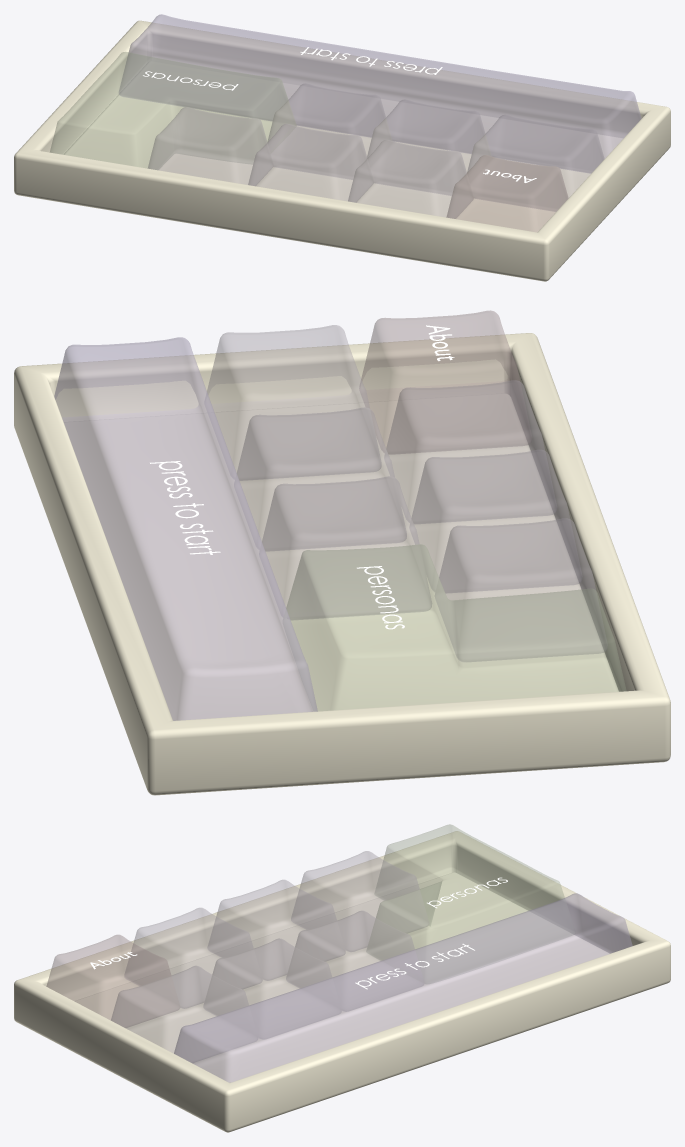
The model's file is noalphakeeb.glb.
3 views of the same model, one above another, from view 1: azimuth 30°, elevation 25°; view 2: azimuth 150°, elevation 25°; view 3: azimuth 270°, elevation 25° (orthographic). The views are drawn at different scales.
Visible parts, largest first — view 1: Board, Spacebar, Key5, Key6, Key8, Key7, Key4, Key2, Key3, Key1, Start; view 2: Board, Spacebar, Key5, Key6, Key4, Key7, Key2, Key3, Key1, Key8, Start; view 3: Board, Spacebar, Key5, Key6, Key7, Key3, Key4, Key8, Key2, Key1.
Part boxes in pixels (x1,y1,x2,y2): Board: (14,20,670,281); Spacebar: (119,14,641,173); Key5: (50,52,296,169); Key6: (467,115,604,211); Key8: (267,83,391,179); Key7: (367,99,490,195); Key4: (148,107,273,185); Key2: (348,140,473,218); Key3: (248,124,373,202); Key1: (446,155,568,231); Start: (300,47,442,74); Board: (14,333,670,795); Spacebar: (54,337,317,720); Key5: (283,544,626,711); Key6: (205,325,381,480); Key4: (435,518,607,661); Key7: (234,407,406,551); Key2: (384,380,556,523); Key3: (409,450,582,593); Key1: (359,310,531,454); Key8: (259,476,431,620); Start: (150,461,220,554); Board: (14,831,670,1132); Spacebar: (174,893,632,1082); Key5: (366,824,574,983); Key6: (111,966,257,1062); Key7: (203,938,340,1038); Key3: (207,880,345,980); Key4: (291,851,428,951); Key8: (286,911,423,1011); Key2: (124,908,262,1008); Key1: (46,935,179,1027).
Size of what is drawn, in the model's own units: 5.44 by 0.6747 by 5.74.
